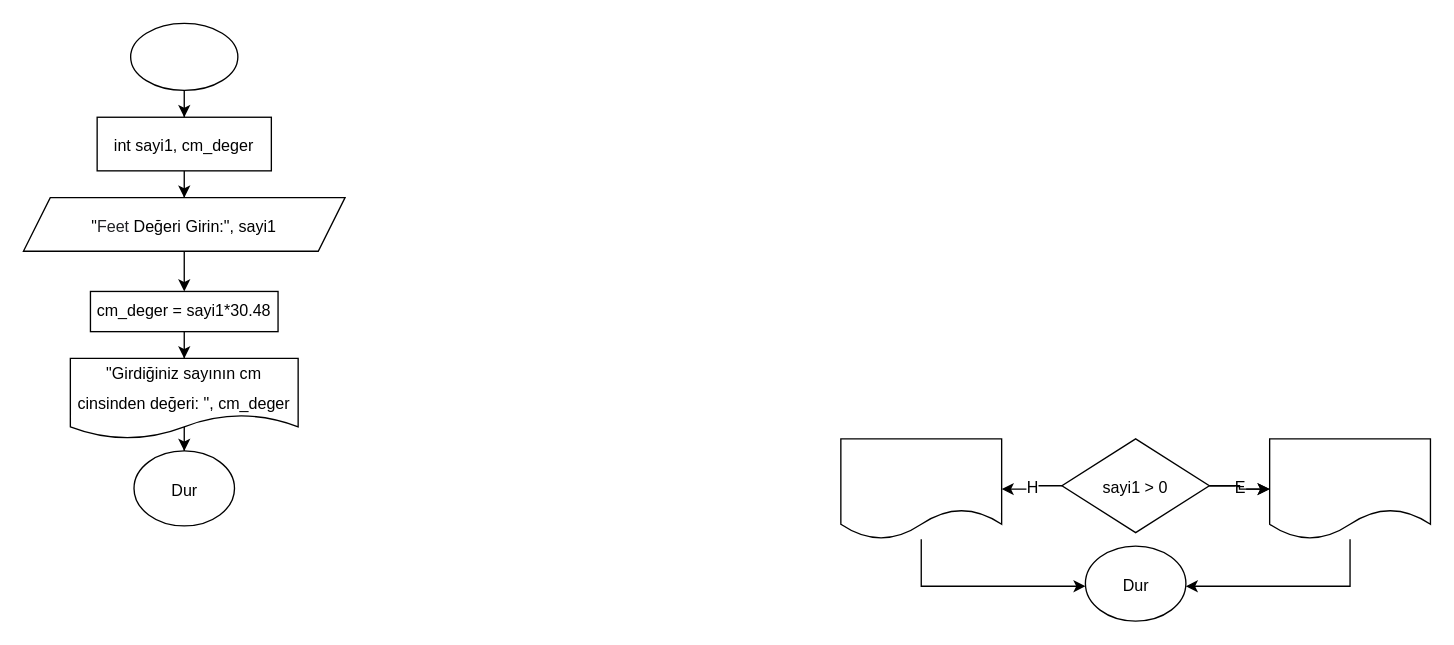
Image size: 1454x645. Some labels were removed from this diagram. Each missing label, with the centre of its shape:
" Donma riski var": point 921,488
"Donma riski yok ": point 1349,488
Başla: point 183,56
